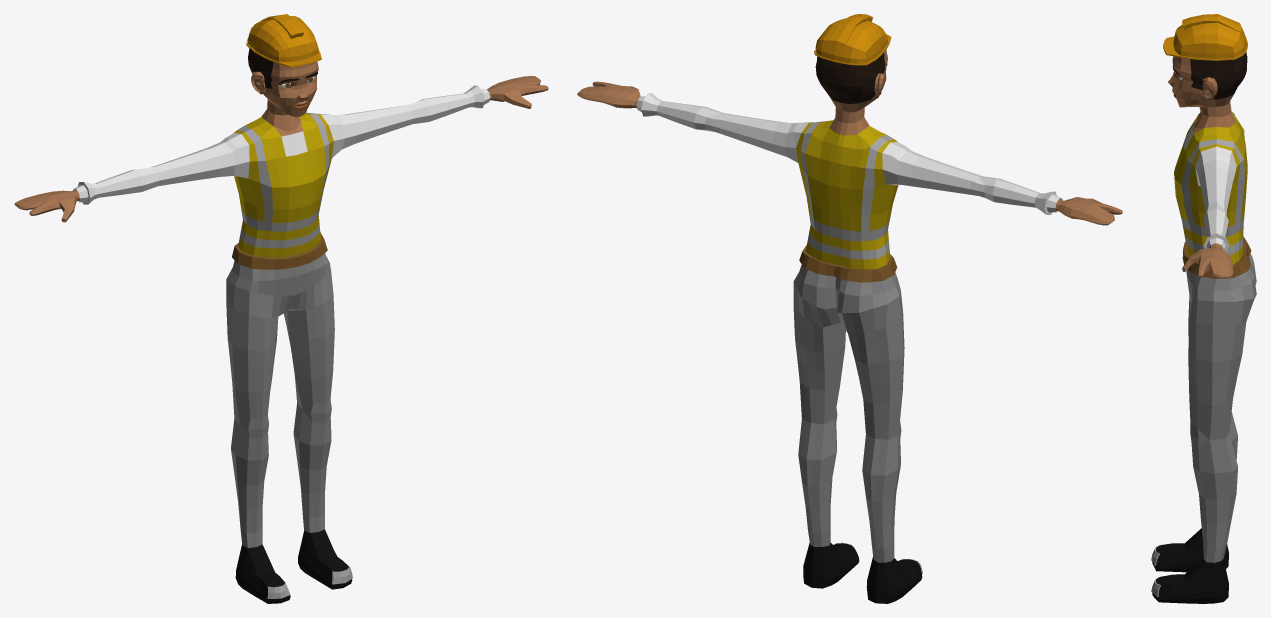
The model's file is Engineer.glb.
3 views of the same model, side by side, from view 1: azimuth 30°, elevation 25°; view 2: azimuth 150°, elevation 25°; view 3: azimuth 270°, elevation 25° (orthographic). The views are drawn at different scales.
Parts seen in each view (by area): view 1: EngineerMaleMesh; view 2: EngineerMaleMesh; view 3: EngineerMaleMesh.
Part boxes in pixels (bbox=[...]): EngineerMaleMesh: bbox=[14, 14, 548, 603]; EngineerMaleMesh: bbox=[577, 14, 1122, 603]; EngineerMaleMesh: bbox=[1151, 14, 1256, 603].
Size of the model in its own units: 1.06 by 1.08 by 0.1831.
1 material, 1 textured.
